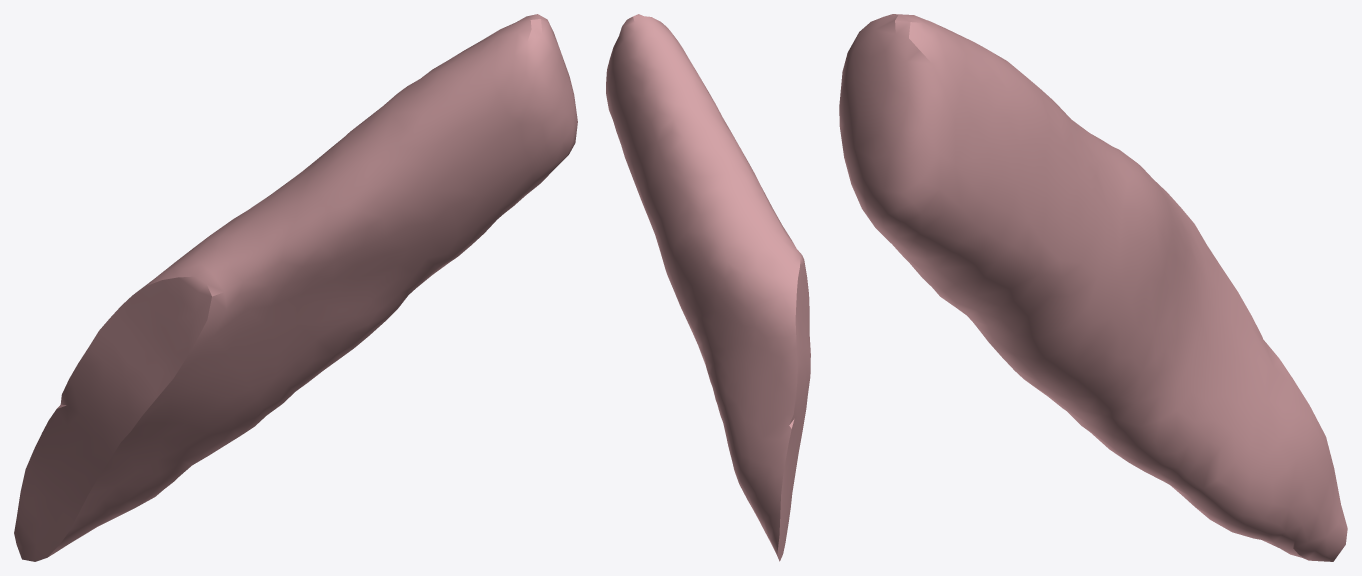
Rendered from fma297738_mm4017.glb.
3 views of the same model, side by side, from view 1: azimuth 30°, elevation 25°; view 2: azimuth 150°, elevation 25°; view 3: azimuth 270°, elevation 25° (orthographic). The views are drawn at different scales.
Visible parts, largest first — view 1: FMA297738_MM4017; view 2: FMA297738_MM4017; view 3: FMA297738_MM4017.
Boxes of the visible parts, x1,y1,x2,y2 form: FMA297738_MM4017: (14, 14, 577, 561); FMA297738_MM4017: (606, 14, 810, 561); FMA297738_MM4017: (839, 14, 1347, 561).
Size of the model in its own units: 0.0415 by 0.0565 by 0.0333.
